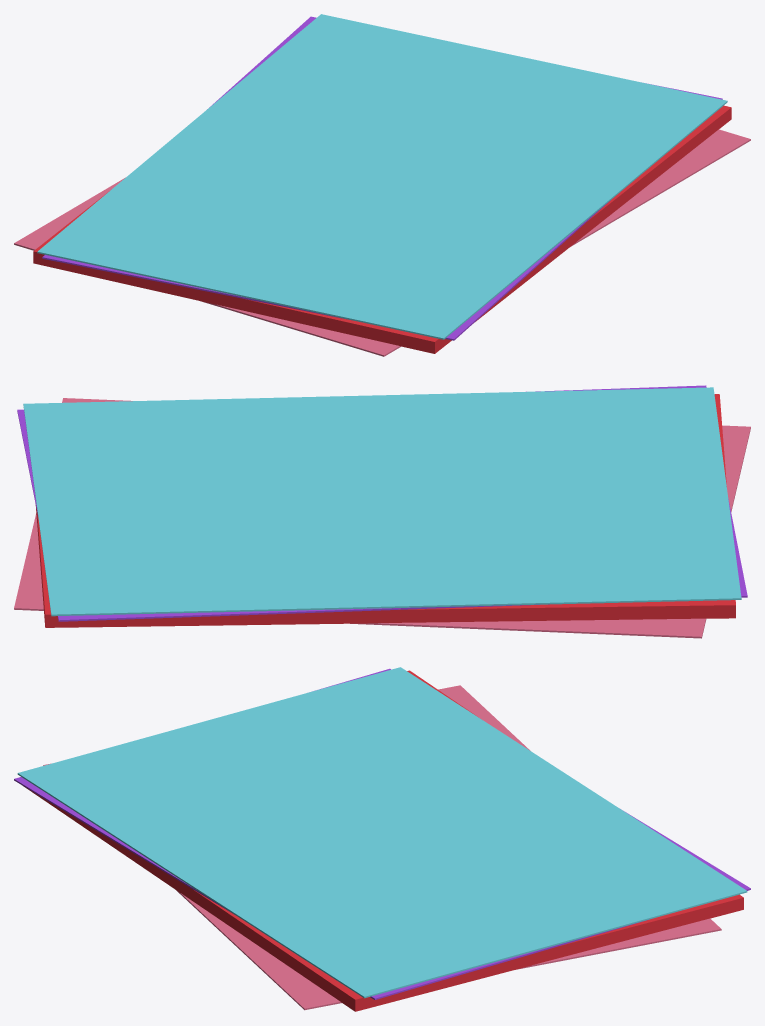
File: Paper.fbx
The picture shows the model from 3 angles, top to bottom: view 1: azimuth 30°, elevation 25°; view 2: azimuth 150°, elevation 25°; view 3: azimuth 270°, elevation 25°; orthographic projection. The views are drawn at different scales.
Parts seen in each view (by area): view 1: Cube.047; view 2: Cube.047; view 3: Cube.047.
Boxes of the visible parts, <box> form: Cube.047: <box>14,14,750,356</box>; Cube.047: <box>14,385,750,638</box>; Cube.047: <box>14,667,750,1011</box>.
Bounding box in the file's own units: 94.66 × 2.21 × 89.32.
